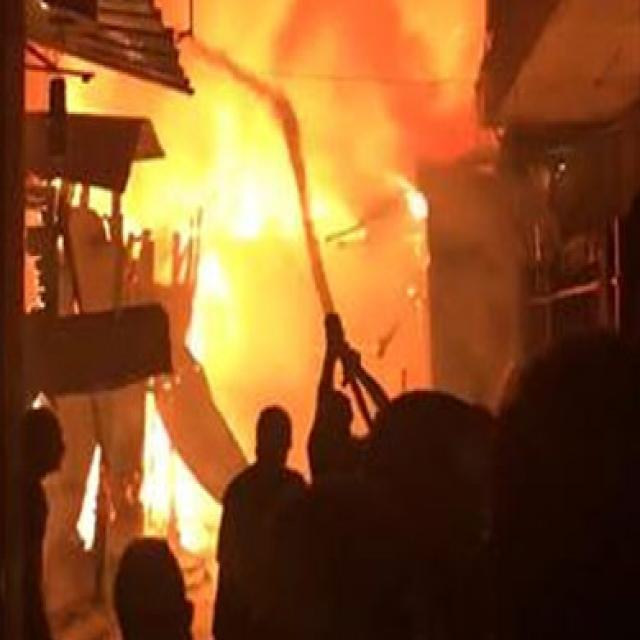fire: (172, 45, 468, 354), (136, 374, 226, 559)
